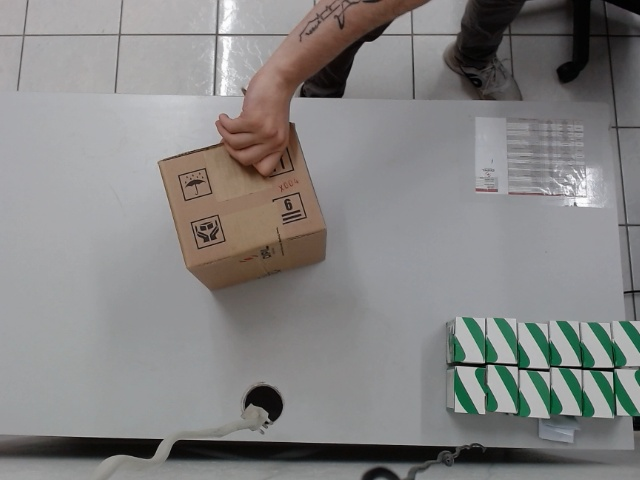caixa_principal: (152, 116, 329, 294)
